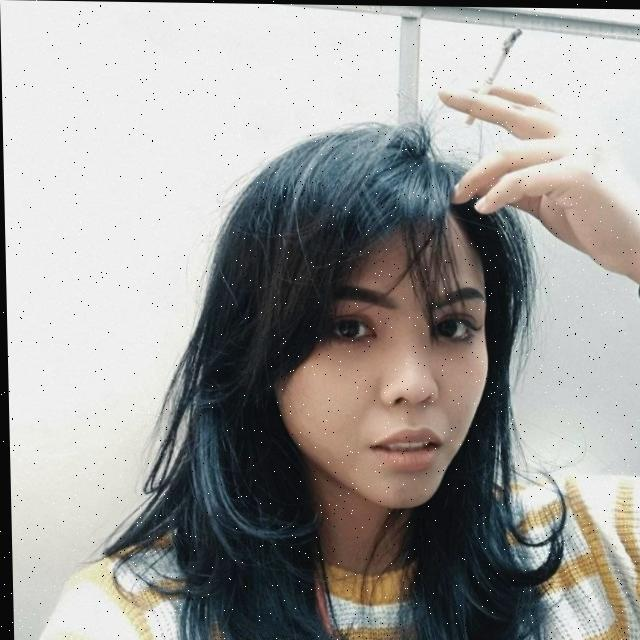cigarette: (462, 24, 524, 125)
